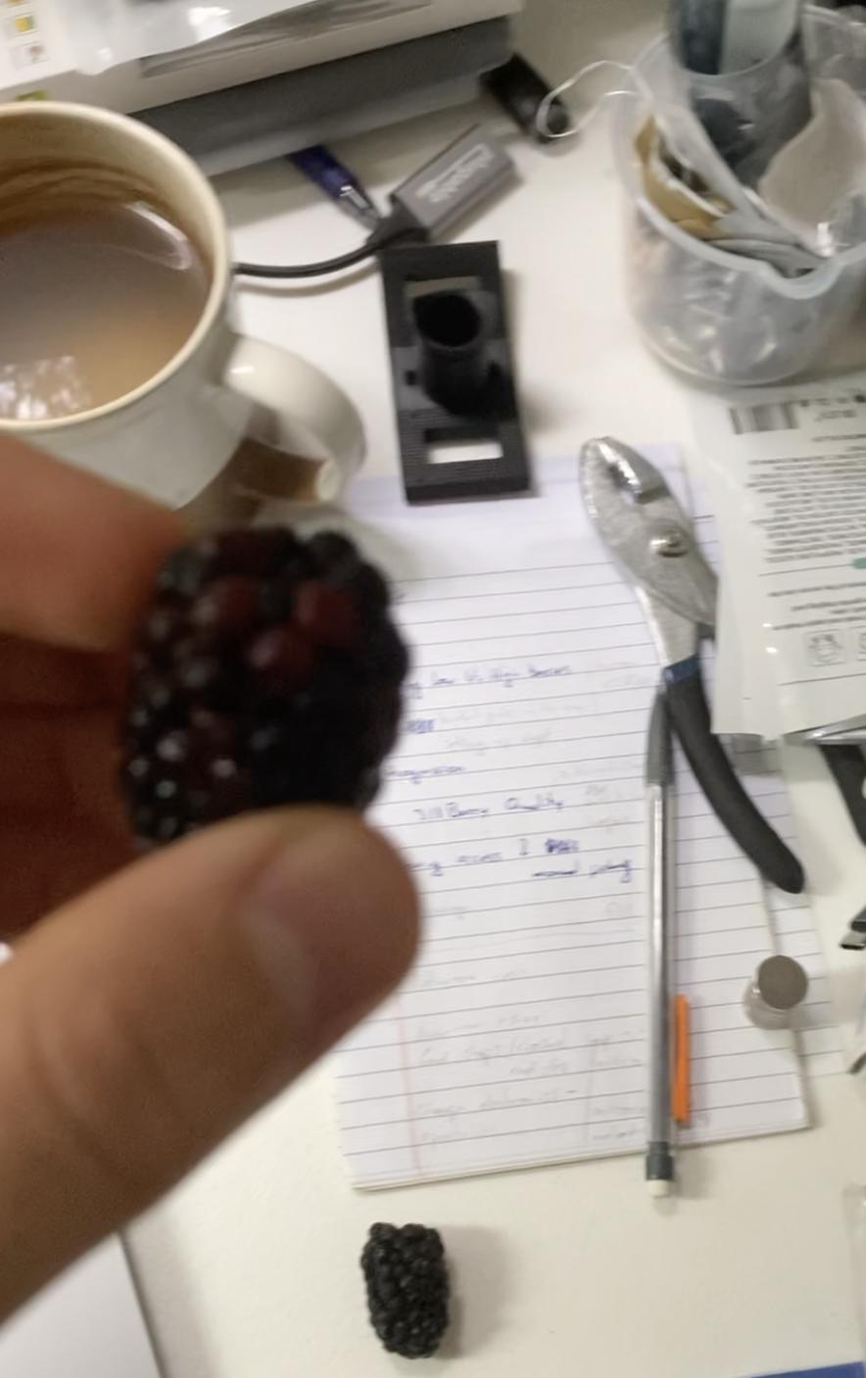berry: (121, 525, 409, 851)
red drouplet: (242, 620, 313, 692), (194, 578, 261, 647), (292, 580, 356, 648)
